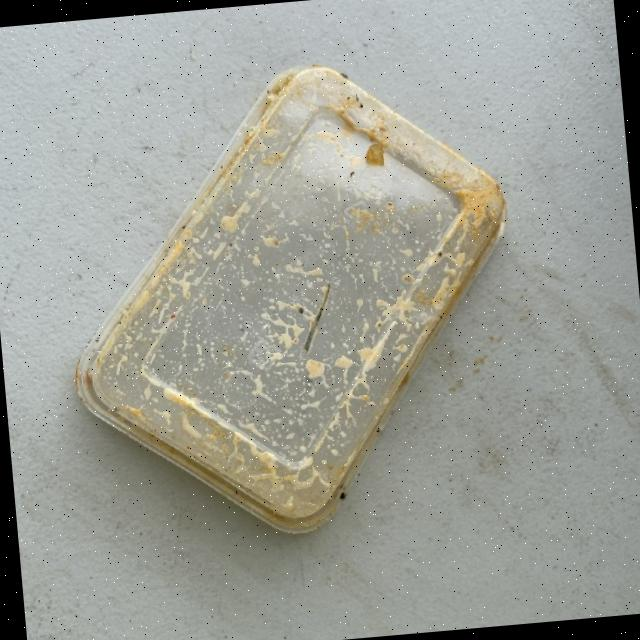plastic: (48, 46, 533, 552)
